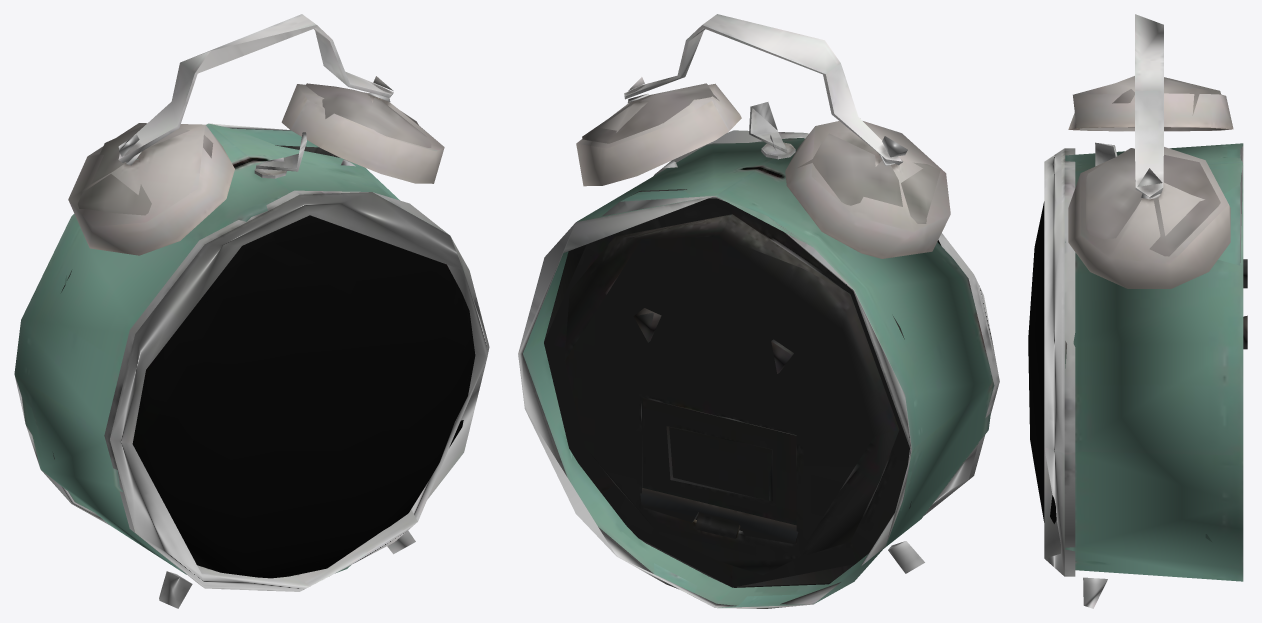
The model's file is alarm_clock_01.glb.
The picture shows the model from 3 angles, left to right: view 1: azimuth 30°, elevation 25°; view 2: azimuth 150°, elevation 25°; view 3: azimuth 270°, elevation 25°; orthographic projection. The views are drawn at different scales.
Visible parts, largest first — view 1: alarm_clock_01; view 2: alarm_clock_01; view 3: alarm_clock_01.
Part boxes in pixels (x1,y1,x2,y2): alarm_clock_01: (14, 14, 489, 608); alarm_clock_01: (518, 14, 999, 608); alarm_clock_01: (1028, 14, 1247, 608).
Size of the model in its own units: 0.1312 by 0.1719 by 0.0655.
2 materials, 2 textured.
